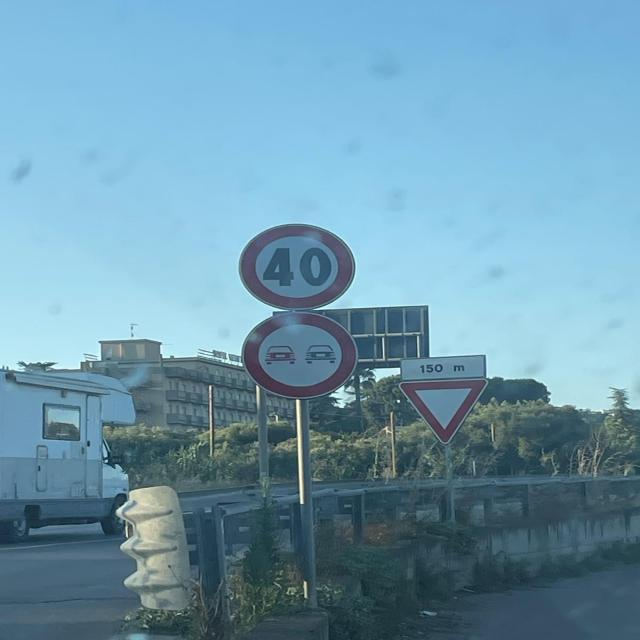forb_overtake: (241, 311, 360, 401)
forb_speed_over_40: (237, 222, 357, 311)
prio_give_way: (397, 376, 490, 445)
